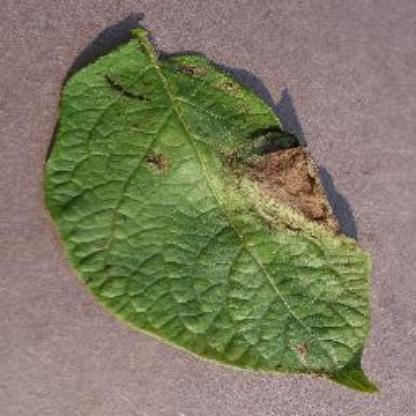Late-Blight: (26, 16, 380, 408)
